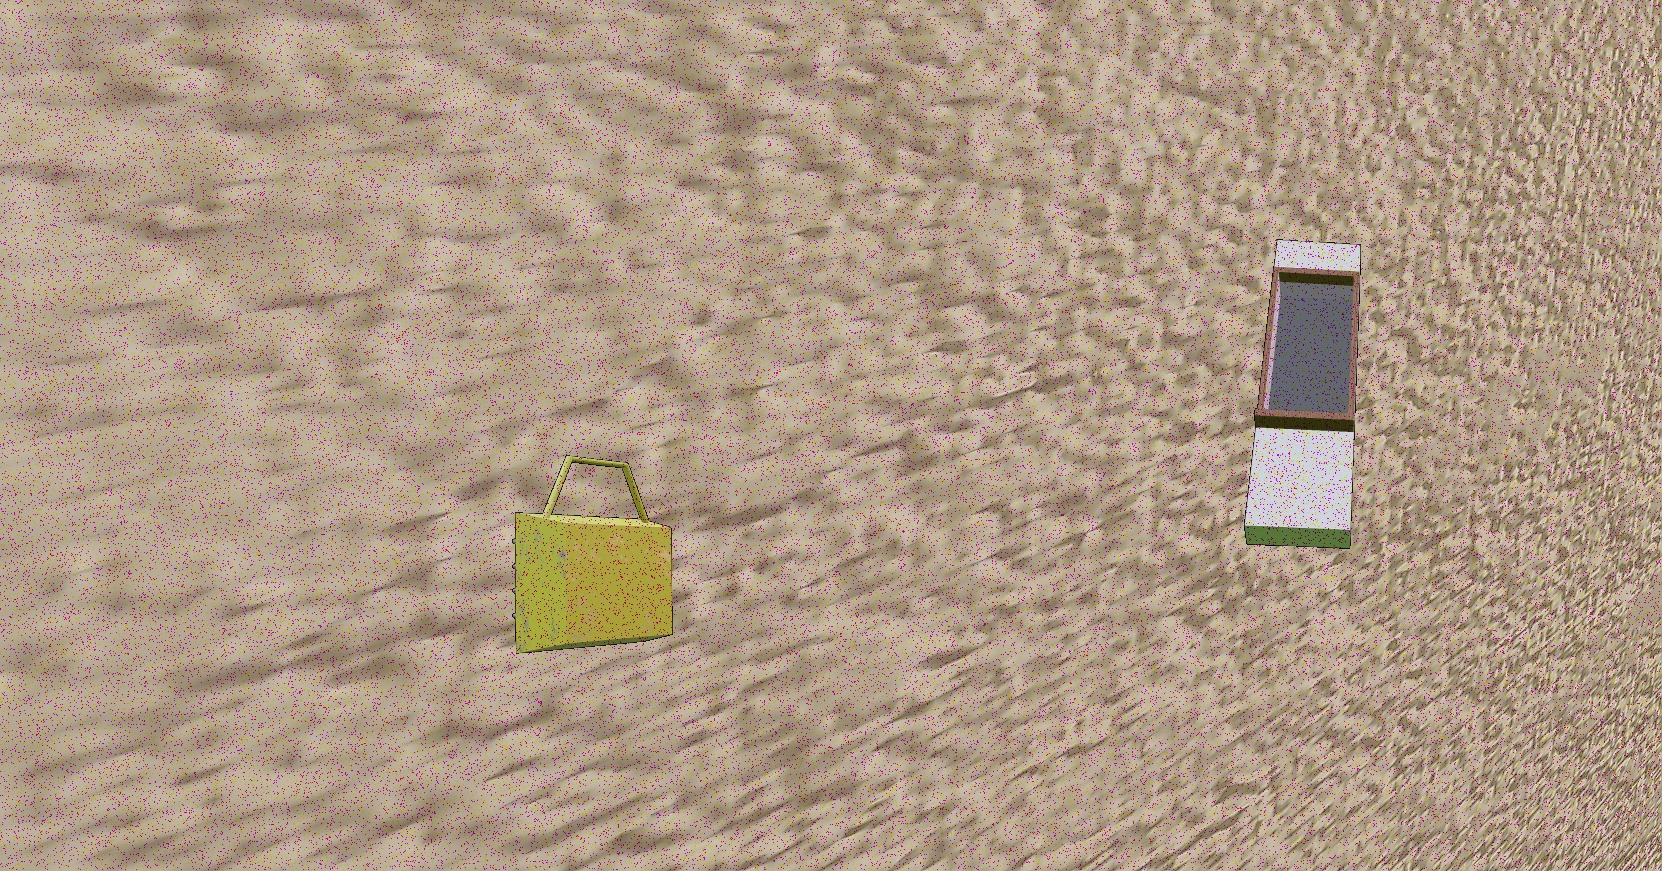lampara: (512, 455, 673, 654)
ventana: (1244, 239, 1361, 549)
